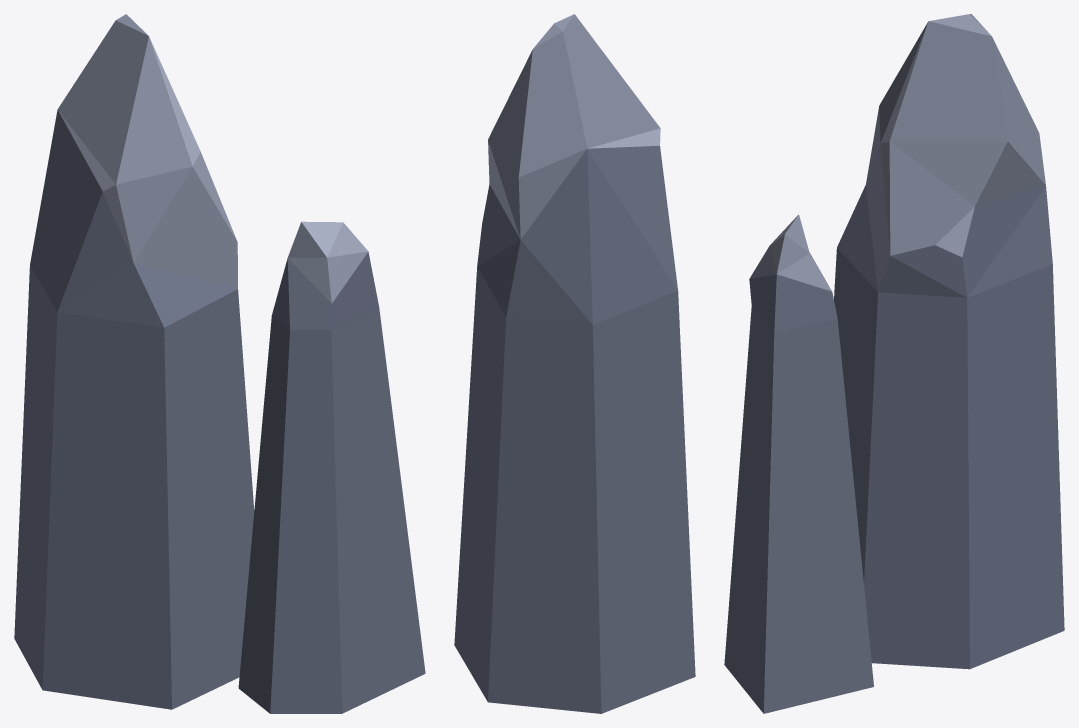
The model's file is Flora_Rocks_01 (2).fbx.
3 views of the same model, side by side, from view 1: azimuth 30°, elevation 25°; view 2: azimuth 150°, elevation 25°; view 3: azimuth 270°, elevation 25° (orthographic). The views are drawn at different scales.
Parts seen in each view (by area): view 1: Color_01; view 2: Color_01; view 3: Color_01.
Part boxes in pixels (x1,y1,x2,y2): Color_01: (14,14,425,713); Color_01: (454,14,695,713); Color_01: (724,14,1064,713).
Size of the model in its own units: 15.05 by 29.79 by 15.07.
